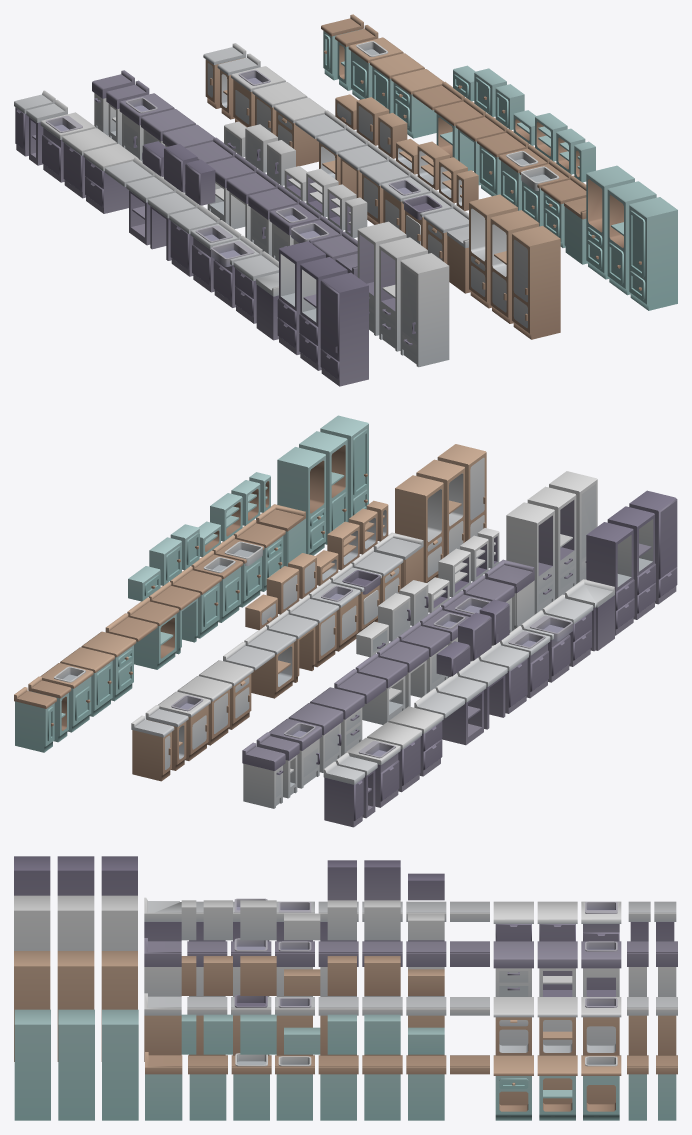
The model's file is kitchen-cabinets.glb.
3 views of the same model, one above another, from view 1: azimuth 30°, elevation 25°; view 2: azimuth 150°, elevation 25°; view 3: azimuth 270°, elevation 25° (orthographic). The views are drawn at different scales.
Parts seen in each view (by area): view 1: cabinet-simple-high-door, cabinet-modern-high-door, cabinet-basic-high-door, cabinet-decorative-high-door, cabinet-simple-high, cabinet-modern-high-divider, cabinet-simple-high-divider, cabinet-simple-island-drawer, cabinet-decorative-high, cabinet-basic-high, cabinet-basic-high-divider, cabinet-modern-high (+76 smaller); view 2: cabinet-modern-high, cabinet-simple-high, cabinet-decorative-high, cabinet-basic-high, cabinet-simple-high-door, cabinet-simple-high-divider, cabinet-modern-high-divider, cabinet-decorative-planks, cabinet-basic-planks, cabinet-simple-planks, cabinet-simple-narrow, cabinet-modern-planks (+72 smaller); view 3: cabinet-decorative-high, cabinet-decorative-high-divider, cabinet-decorative-high-door, cabinet-decorative-sink-large, cabinet-decorative-drawer, cabinet-decorative-island, cabinet-decorative-island-drawer, cabinet-decorative-island-sink, cabinet-decorative-open, cabinet-decorative, cabinet-decorative-planks, cabinet-decorative-corner (+74 smaller).
Part boxes in pixels (x1=…): cabinet-simple-high-door: x1=320, y1=272, x2=368, y2=386; cabinet-modern-high-door: x1=400, y1=253, x2=449, y2=367; cabinet-basic-high-door: x1=512, y1=226, x2=560, y2=339; cabinet-decorative-high-door: x1=629, y1=197, x2=677, y2=310; cabinet-simple-high: x1=277, y1=241, x2=325, y2=354; cabinet-modern-high-divider: x1=379, y1=237, x2=427, y2=351; cabinet-simple-high-divider: x1=299, y1=257, x2=347, y2=370; cabinet-simple-island-drawer: x1=83, y1=143, x2=138, y2=213; cabinet-decorative-high: x1=586, y1=165, x2=634, y2=279; cabinet-basic-high: x1=469, y1=194, x2=517, y2=308; cabinet-basic-high-divider: x1=490, y1=210, x2=539, y2=323; cabinet-modern-high: x1=357, y1=221, x2=406, y2=335; cabinet-modern-high: x1=506, y1=502, x2=554, y2=614; cabinet-simple-high: x1=586, y1=522, x2=634, y2=635; cabinet-decorative-high: x1=277, y1=447, x2=325, y2=555; cabinet-basic-high: x1=395, y1=475, x2=443, y2=582; cabinet-simple-high-door: x1=629, y1=490, x2=677, y2=604; cabinet-simple-high-divider: x1=607, y1=506, x2=655, y2=619; cabinet-modern-high-divider: x1=527, y1=486, x2=576, y2=599; cabinet-decorative-planks: x1=127, y1=597, x2=179, y2=669; cabinet-basic-planks: x1=244, y1=626, x2=296, y2=698; cabinet-simple-planks: x1=436, y1=673, x2=486, y2=745; cabinet-simple-narrow: x1=323, y1=761, x2=364, y2=827; cabinet-modern-planks: x1=355, y1=653, x2=407, y2=724; cabinet-decorative-high: x1=102, y1=1009, x2=138, y2=1120; cabinet-decorative-high-divider: x1=58, y1=1009, x2=94, y2=1120; cabinet-decorative-high-door: x1=14, y1=1009, x2=50, y2=1120; cabinet-decorative-sink-large: x1=231, y1=1053, x2=271, y2=1120; cabinet-decorative-drawer: x1=188, y1=1055, x2=227, y2=1120; cabinet-decorative-island: x1=537, y1=1055, x2=577, y2=1120; cabinet-decorative-island-drawer: x1=493, y1=1055, x2=533, y2=1120; cabinet-decorative-island-sink: x1=581, y1=1055, x2=621, y2=1120; cabinet-decorative-open: x1=362, y1=1055, x2=402, y2=1120; cabinet-decorative: x1=318, y1=1055, x2=358, y2=1120; cabinet-decorative-planks: x1=406, y1=1055, x2=446, y2=1120; cabinet-decorative-corner: x1=145, y1=1052, x2=182, y2=1120.
Size of the model in its own units: 5.64 by 1.5 by 9.1.
